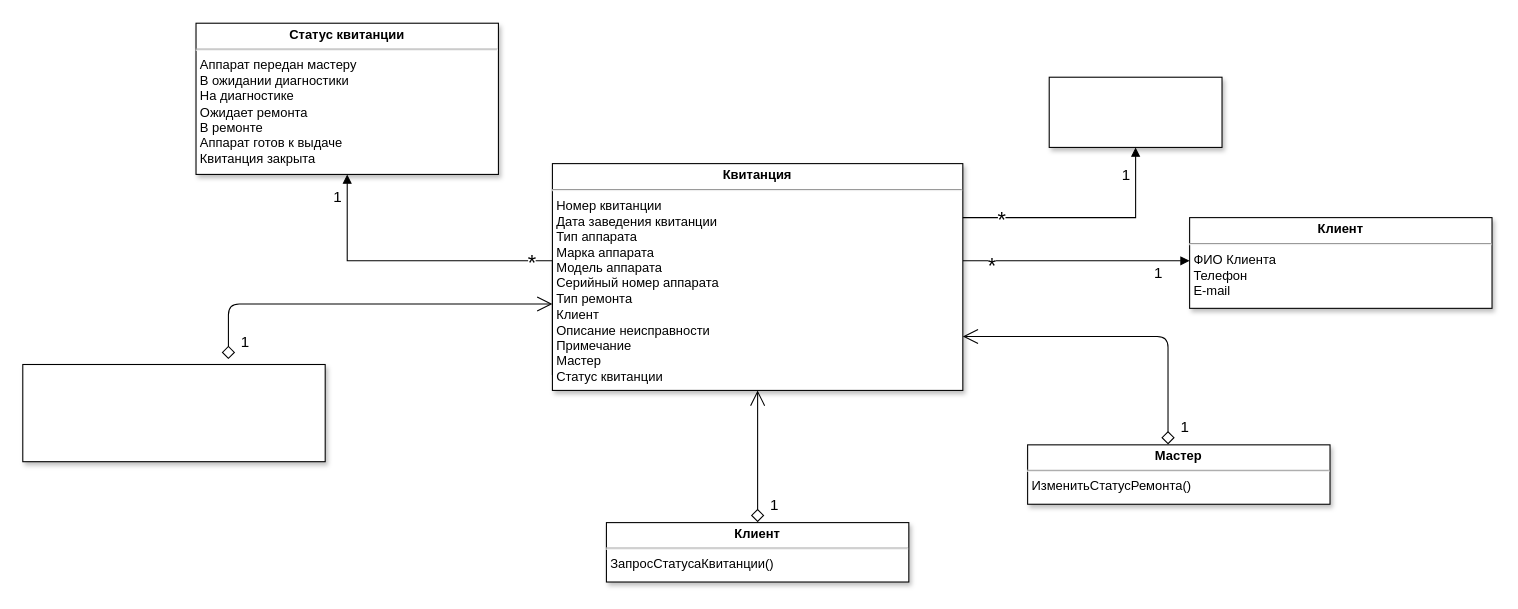
Some shapes in this 1518 by 609 pixel diagram are drawn without their labels. The centre of each missing label's shape, as x and y in pixels:
Приемщик ЗавестиКвитанцию() ПринятьОплату() ЗакрытьКвитанцию(): pixel 174 414
Тип ремонта Гарантийный Не гарантийный: pixel 1136 113
